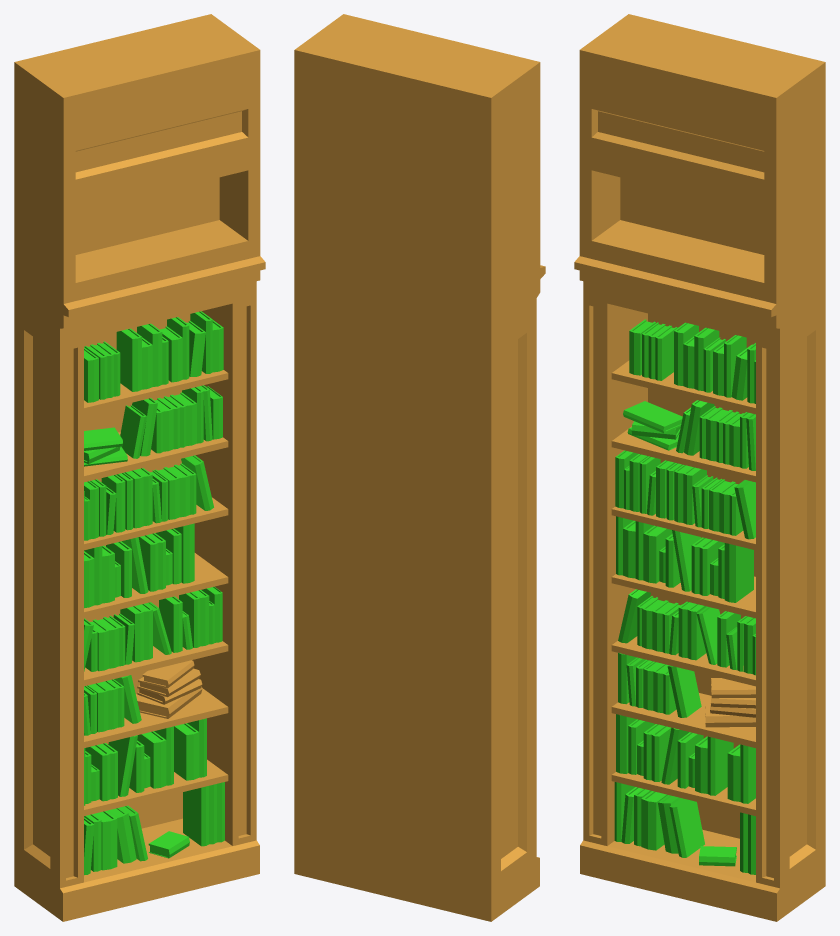
File: Sm_Bookcase_Tall_Modular_Filled_1m_A.fbx
3 views of the same model, side by side, from view 1: azimuth 30°, elevation 25°; view 2: azimuth 150°, elevation 25°; view 3: azimuth 330°, elevation 25° (orthographic).
Parts seen in each view (by area): view 1: bookcase-tall-modular-filled-1m-a; view 2: bookcase-tall-modular-filled-1m-a; view 3: bookcase-tall-modular-filled-1m-a.
Part boxes in pixels (x1,y1,x2,y2): bookcase-tall-modular-filled-1m-a: (14,14,265,921); bookcase-tall-modular-filled-1m-a: (294,14,545,921); bookcase-tall-modular-filled-1m-a: (574,14,825,921).
Bounding box in the file's own units: 1 × 4 × 0.4778.
